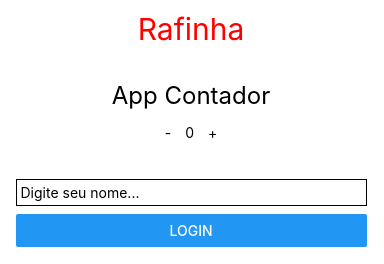
Test: App ComponentTests › should change counter when pressing button
Click the text "+" at (213, 132), box [208,124,217,141]
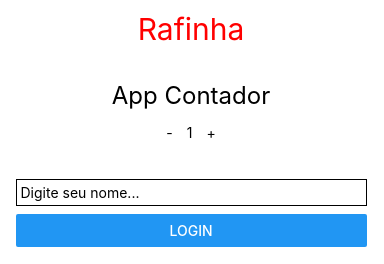
Click the text "+" at (211, 132), box [206,124,216,141]
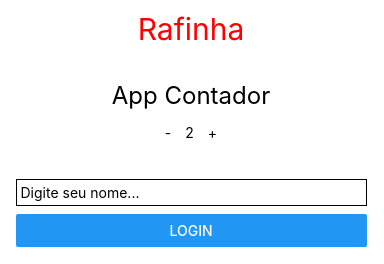
Expected: the text "2" is shown, [185,124,194,141]
